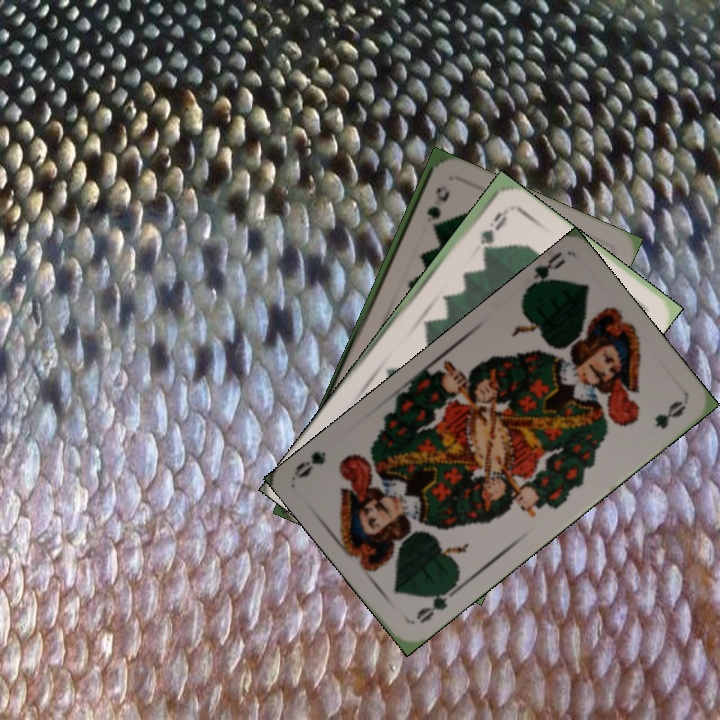G9: (422, 183, 451, 234), (475, 206, 509, 247)
GO: (520, 250, 569, 297), (412, 581, 462, 627)
